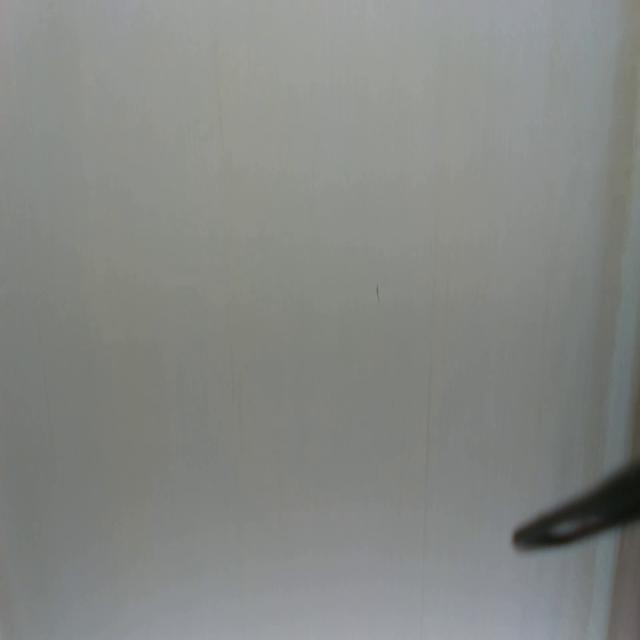crease: (416, 194, 439, 637)
hole: (375, 282, 382, 303)
